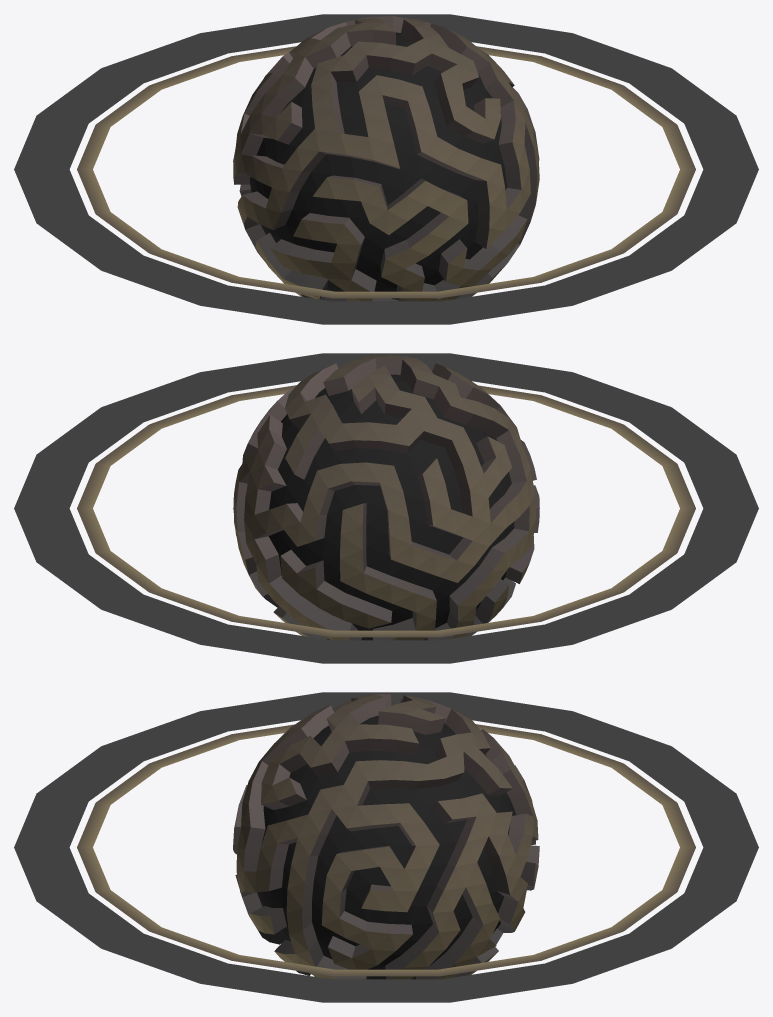
File: planet_maze.FBX
3 views of the same model, one above another, from view 1: azimuth 30°, elevation 25°; view 2: azimuth 150°, elevation 25°; view 3: azimuth 270°, elevation 25° (orthographic).
Parts seen in each view (by area): view 1: planet_maze; view 2: planet_maze; view 3: planet_maze.
Boxes of the visible parts, x1,y1,x2,y2 form: planet_maze: (14, 14, 758, 324); planet_maze: (14, 353, 758, 663); planet_maze: (14, 692, 758, 1002).
Bounding box in the file's own units: 320 × 134 × 325.
